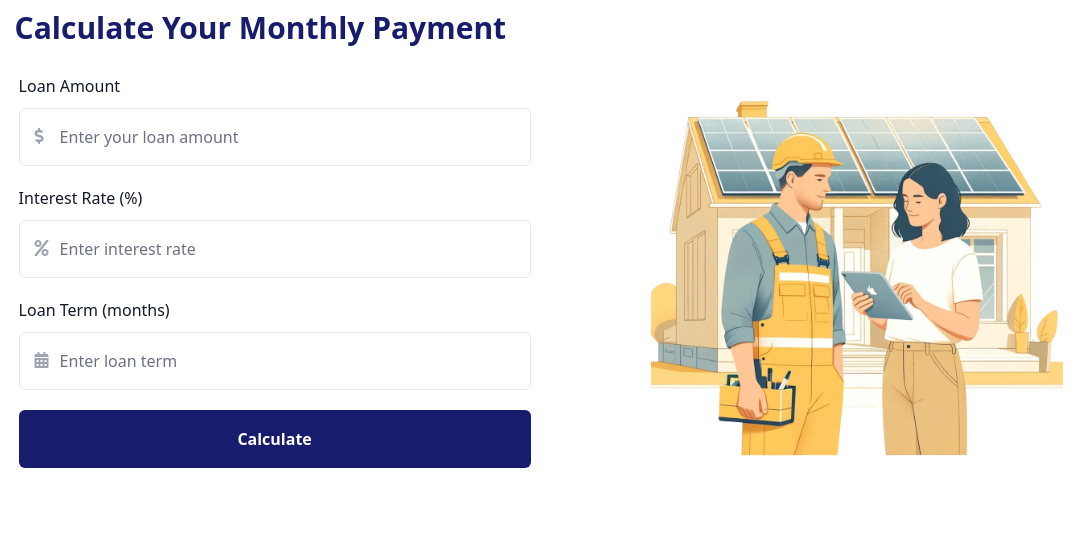
Should show validation errors for invalid input values
This screenshot has width=1080, height=557.
Type "-1000" into the number field with placeholder "Enter your loan amount".
click(275, 137); type("-1000")  # box x1=19 y1=108 x2=531 y2=166
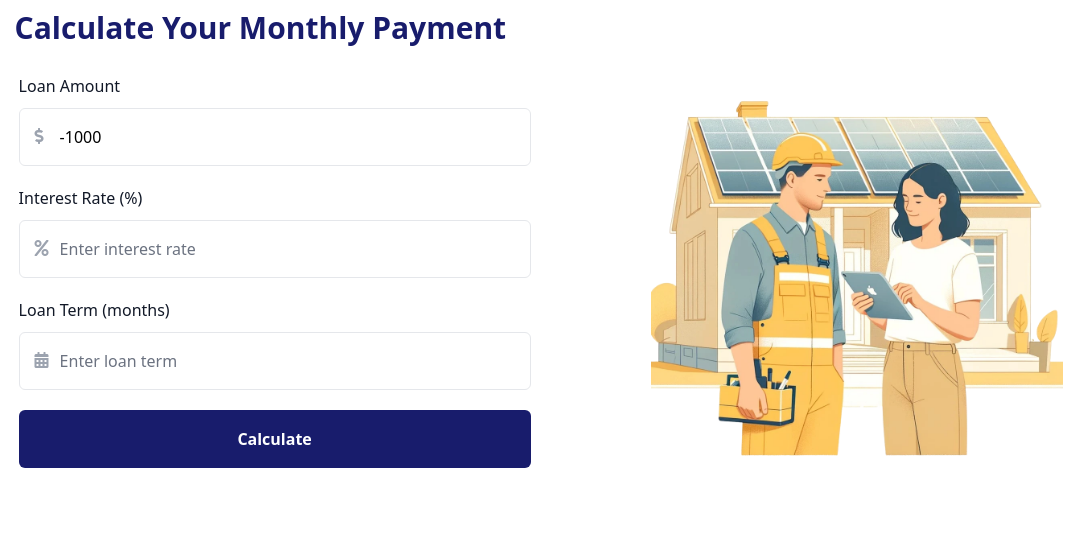
Type "0" into the number field with placeholder "Enter interest rate".
click(275, 249); type("0")  # box x1=19 y1=220 x2=531 y2=278
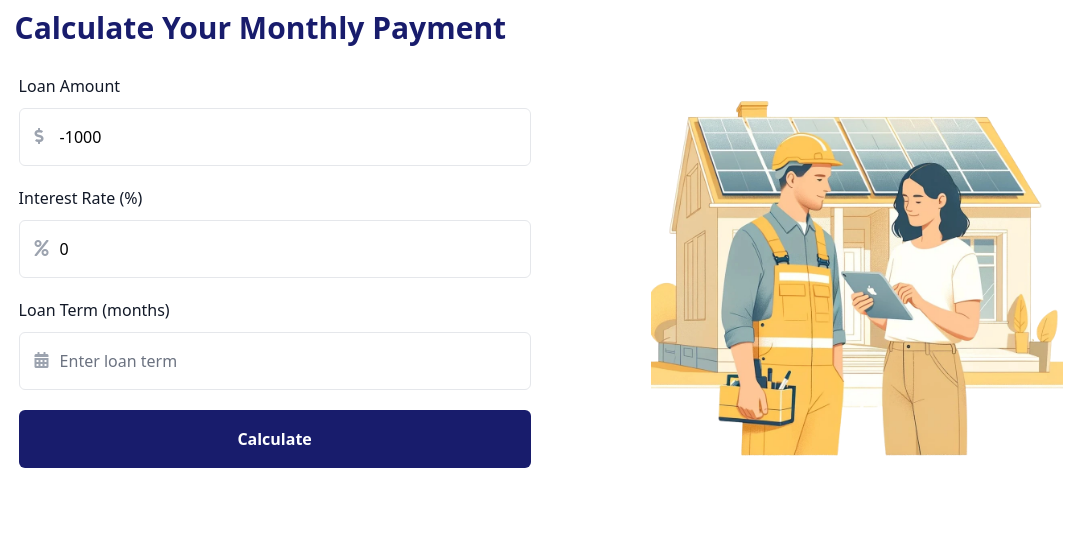
Type "12.5" into the number field with placeholder "Enter loan term".
click(275, 361); type("12.5")  # box x1=19 y1=332 x2=531 y2=390
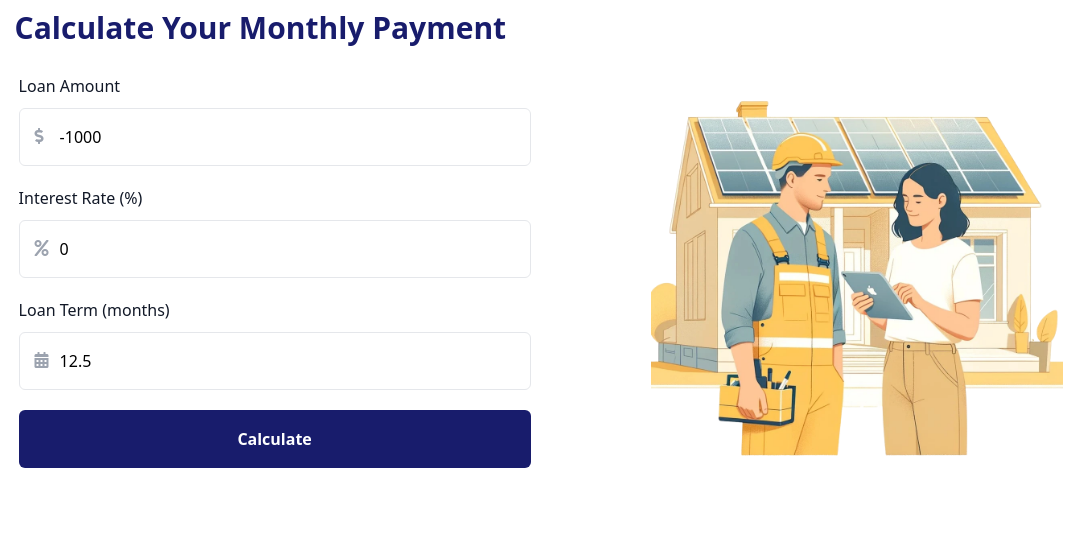
Click the button "Calculate".
click(275, 439)  # box x1=19 y1=410 x2=531 y2=468
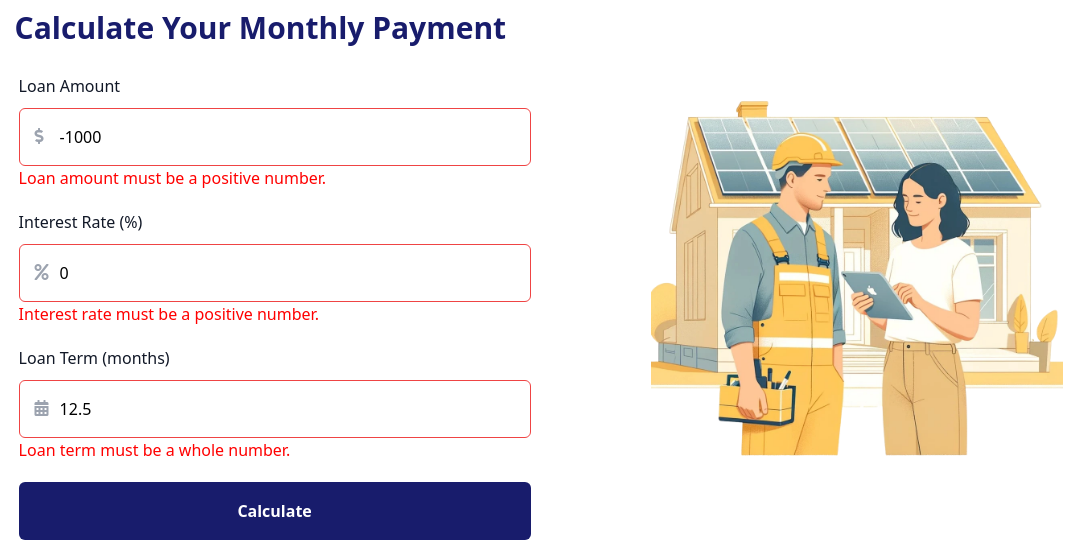
Expected: the text "Loan amount must be a positive number." is shown, x1=19 y1=167 x2=326 y2=189
Expected: the text "Interest rate must be a positive number." is shown, x1=19 y1=303 x2=319 y2=325
Expected: the text "Loan term must be a whole number." is shown, x1=19 y1=439 x2=290 y2=461
